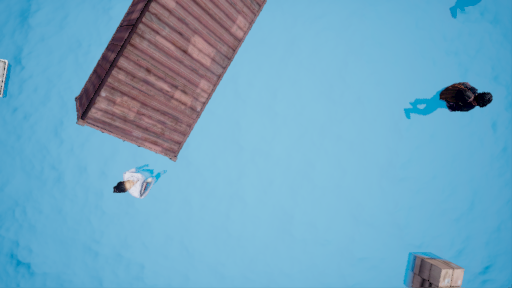person: (398, 82, 498, 122), (104, 162, 175, 203)
